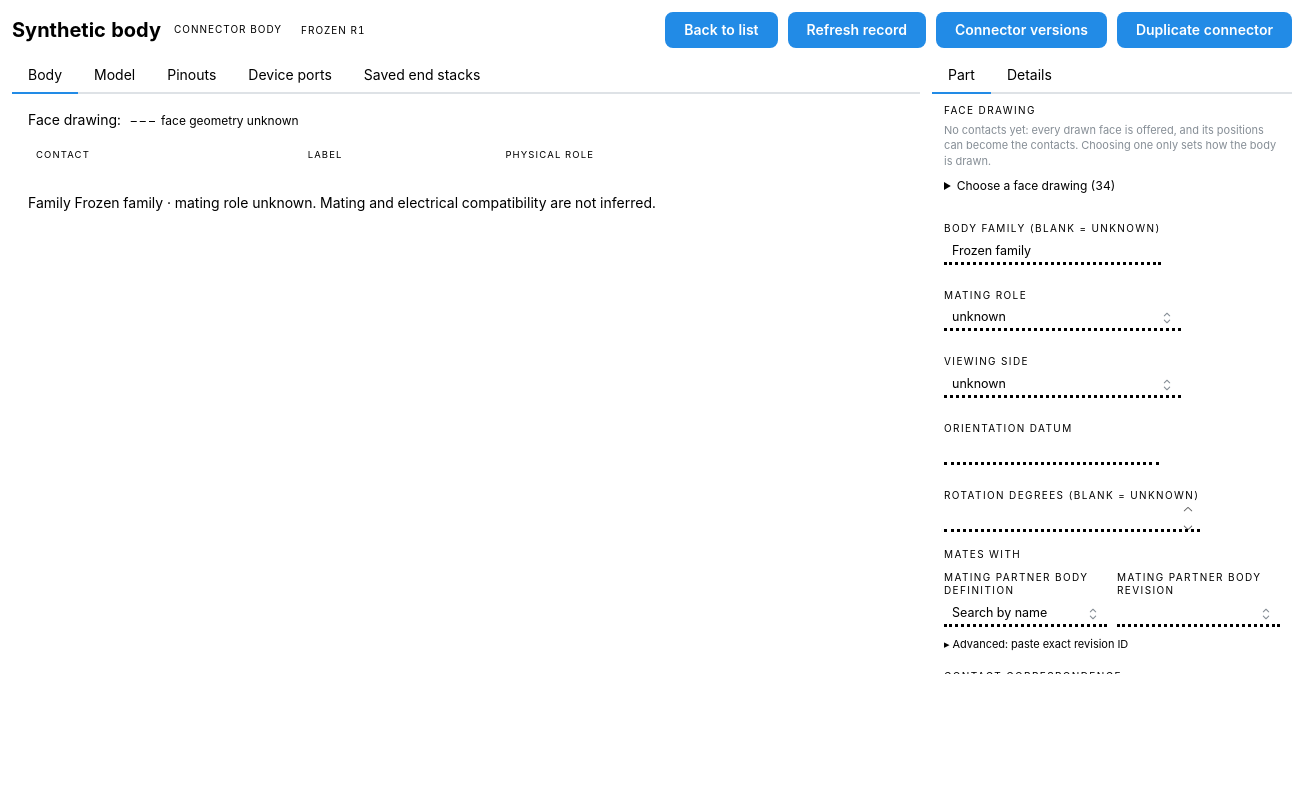
body opens directly with distinct Pinouts/Device ports and no whole-library request
The width and height of the screenshot is (1304, 812).
Expected: the heading "Synthetic body" is shown, [12,18,161,42]
Expected: the text "Frozen r1" is shown, [301,22,366,38]
Step 1. Click the tab "Pinouts" → [192, 76], box [151,58,232,94]
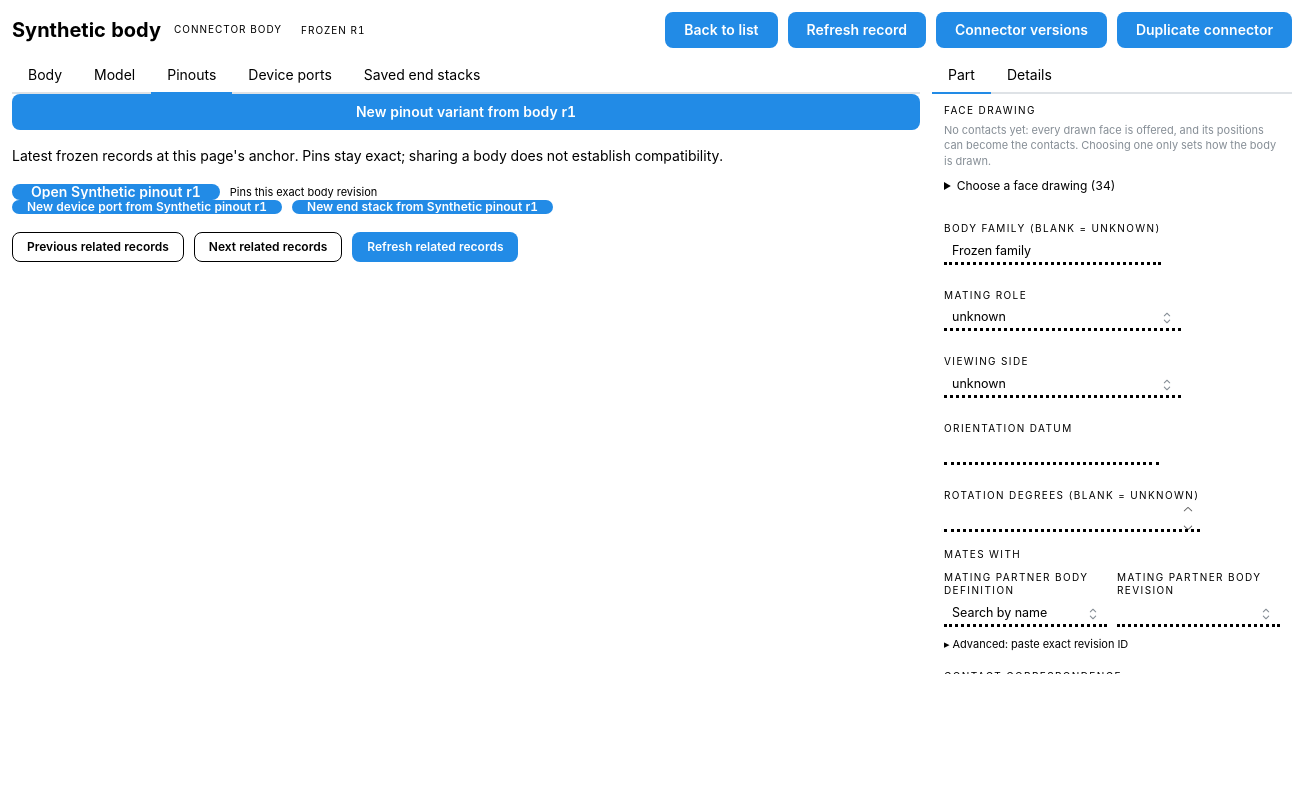
Expected: the button "Open Synthetic pinout r1" is shown, [12,184,220,200]
